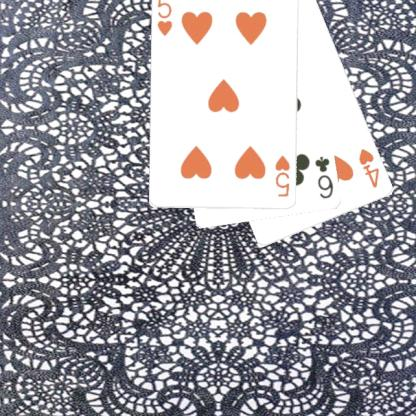4H: (356, 146, 382, 190)
5H: (272, 153, 292, 199), (155, 0, 174, 38)
6C: (312, 154, 335, 200)
